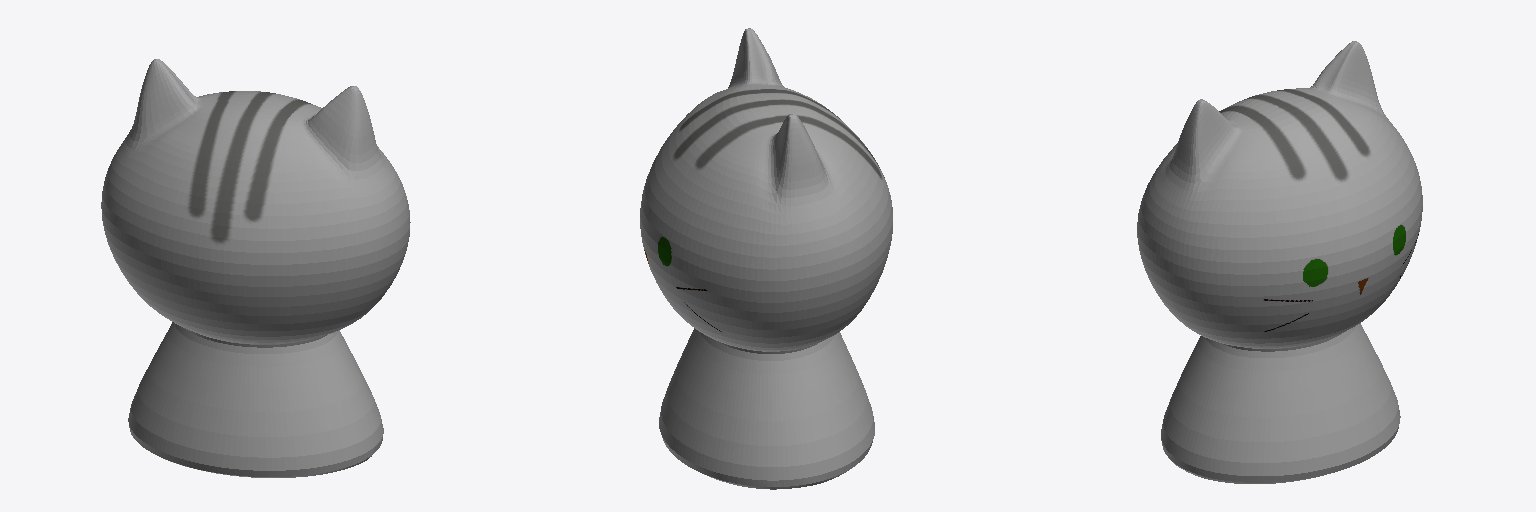
3 renders of one model, left to right at view 1: azimuth 30°, elevation 25°; view 2: azimuth 150°, elevation 25°; view 3: azimuth 270°, elevation 25°, orthographic.
Parts seen in each view (by area): view 1: Cat.002; view 2: Cat.002; view 3: Cat.002.
Part boxes in pixels (left/top/right/bottom): Cat.002: left=101, top=59, right=410, bottom=477; Cat.002: left=640, top=28, right=892, bottom=489; Cat.002: left=1137, top=41, right=1422, bottom=483.
Size of the model in its own units: 29.48 by 43.04 by 30.29.
1 materials, 1 textured.